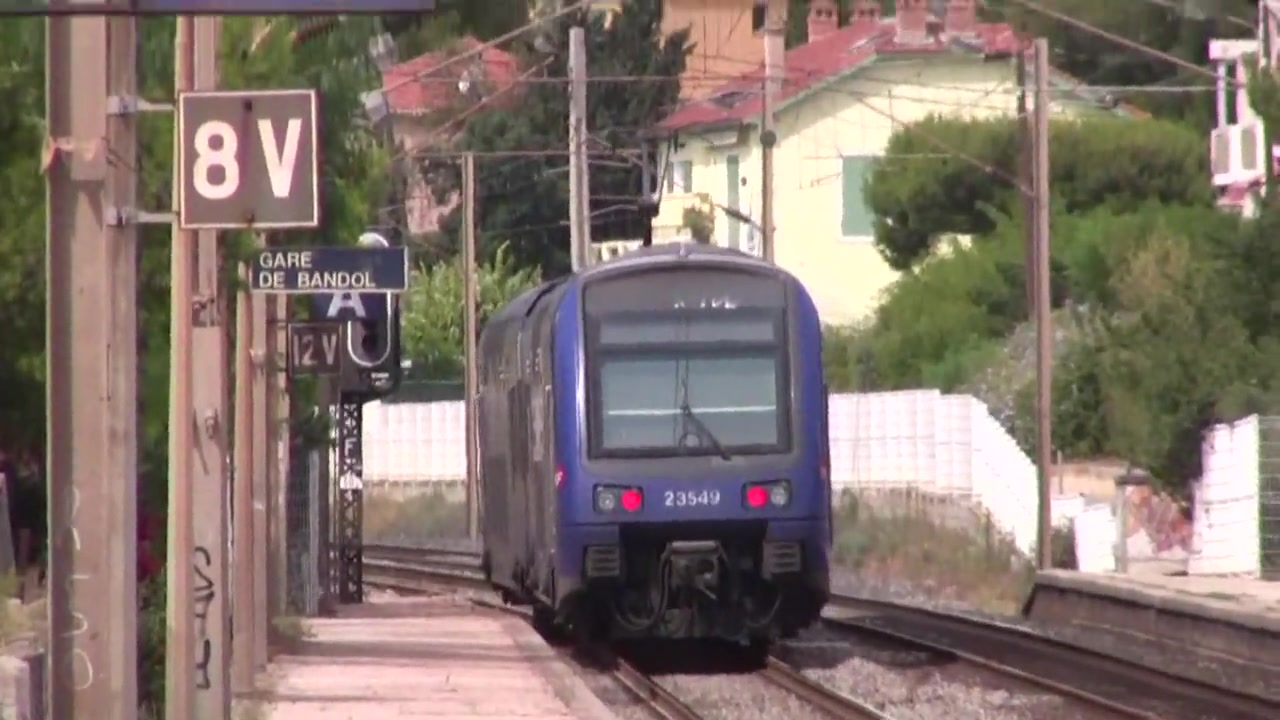train: (471, 245, 838, 664)
